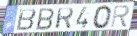4: (75, 6, 89, 30)
B: (15, 8, 38, 32), (35, 8, 55, 31)
O: (92, 5, 113, 30)
R: (110, 5, 131, 29), (54, 7, 75, 30)
